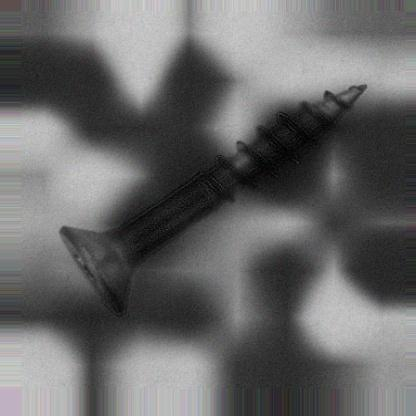metal: (56, 82, 367, 320)
